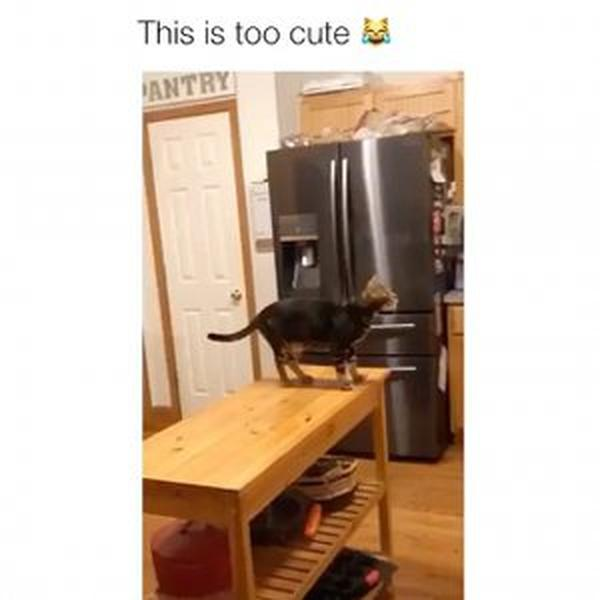michi: (199, 267, 404, 399)
